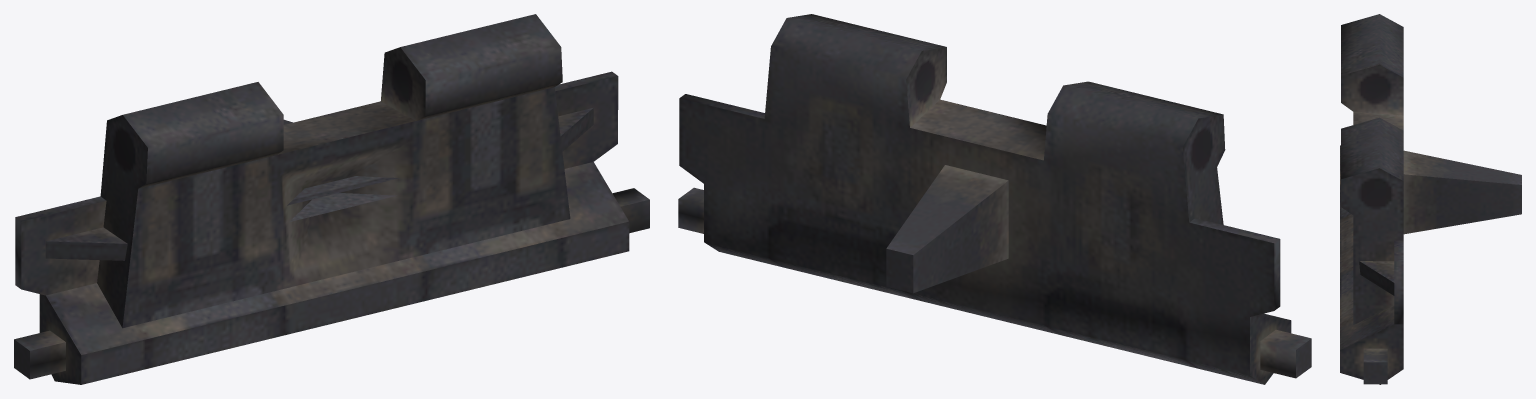
File: Pz35_track.glb
3 views of the same model, side by side, from view 1: azimuth 30°, elevation 25°; view 2: azimuth 150°, elevation 25°; view 3: azimuth 270°, elevation 25° (orthographic). The views are drawn at different scales.
Visible parts, largest first — view 1: set_0_group_0; view 2: set_0_group_0; view 3: set_0_group_0.
Part boxes in pixels (<box>): set_0_group_0: <box>14,14,649,384</box>; set_0_group_0: <box>678,14,1311,384</box>; set_0_group_0: <box>1340,14,1521,384</box>.
Size of the model in its own units: 0.3325 by 0.1284 by 0.1105.
Materials: 1 (1 with a texture image).
